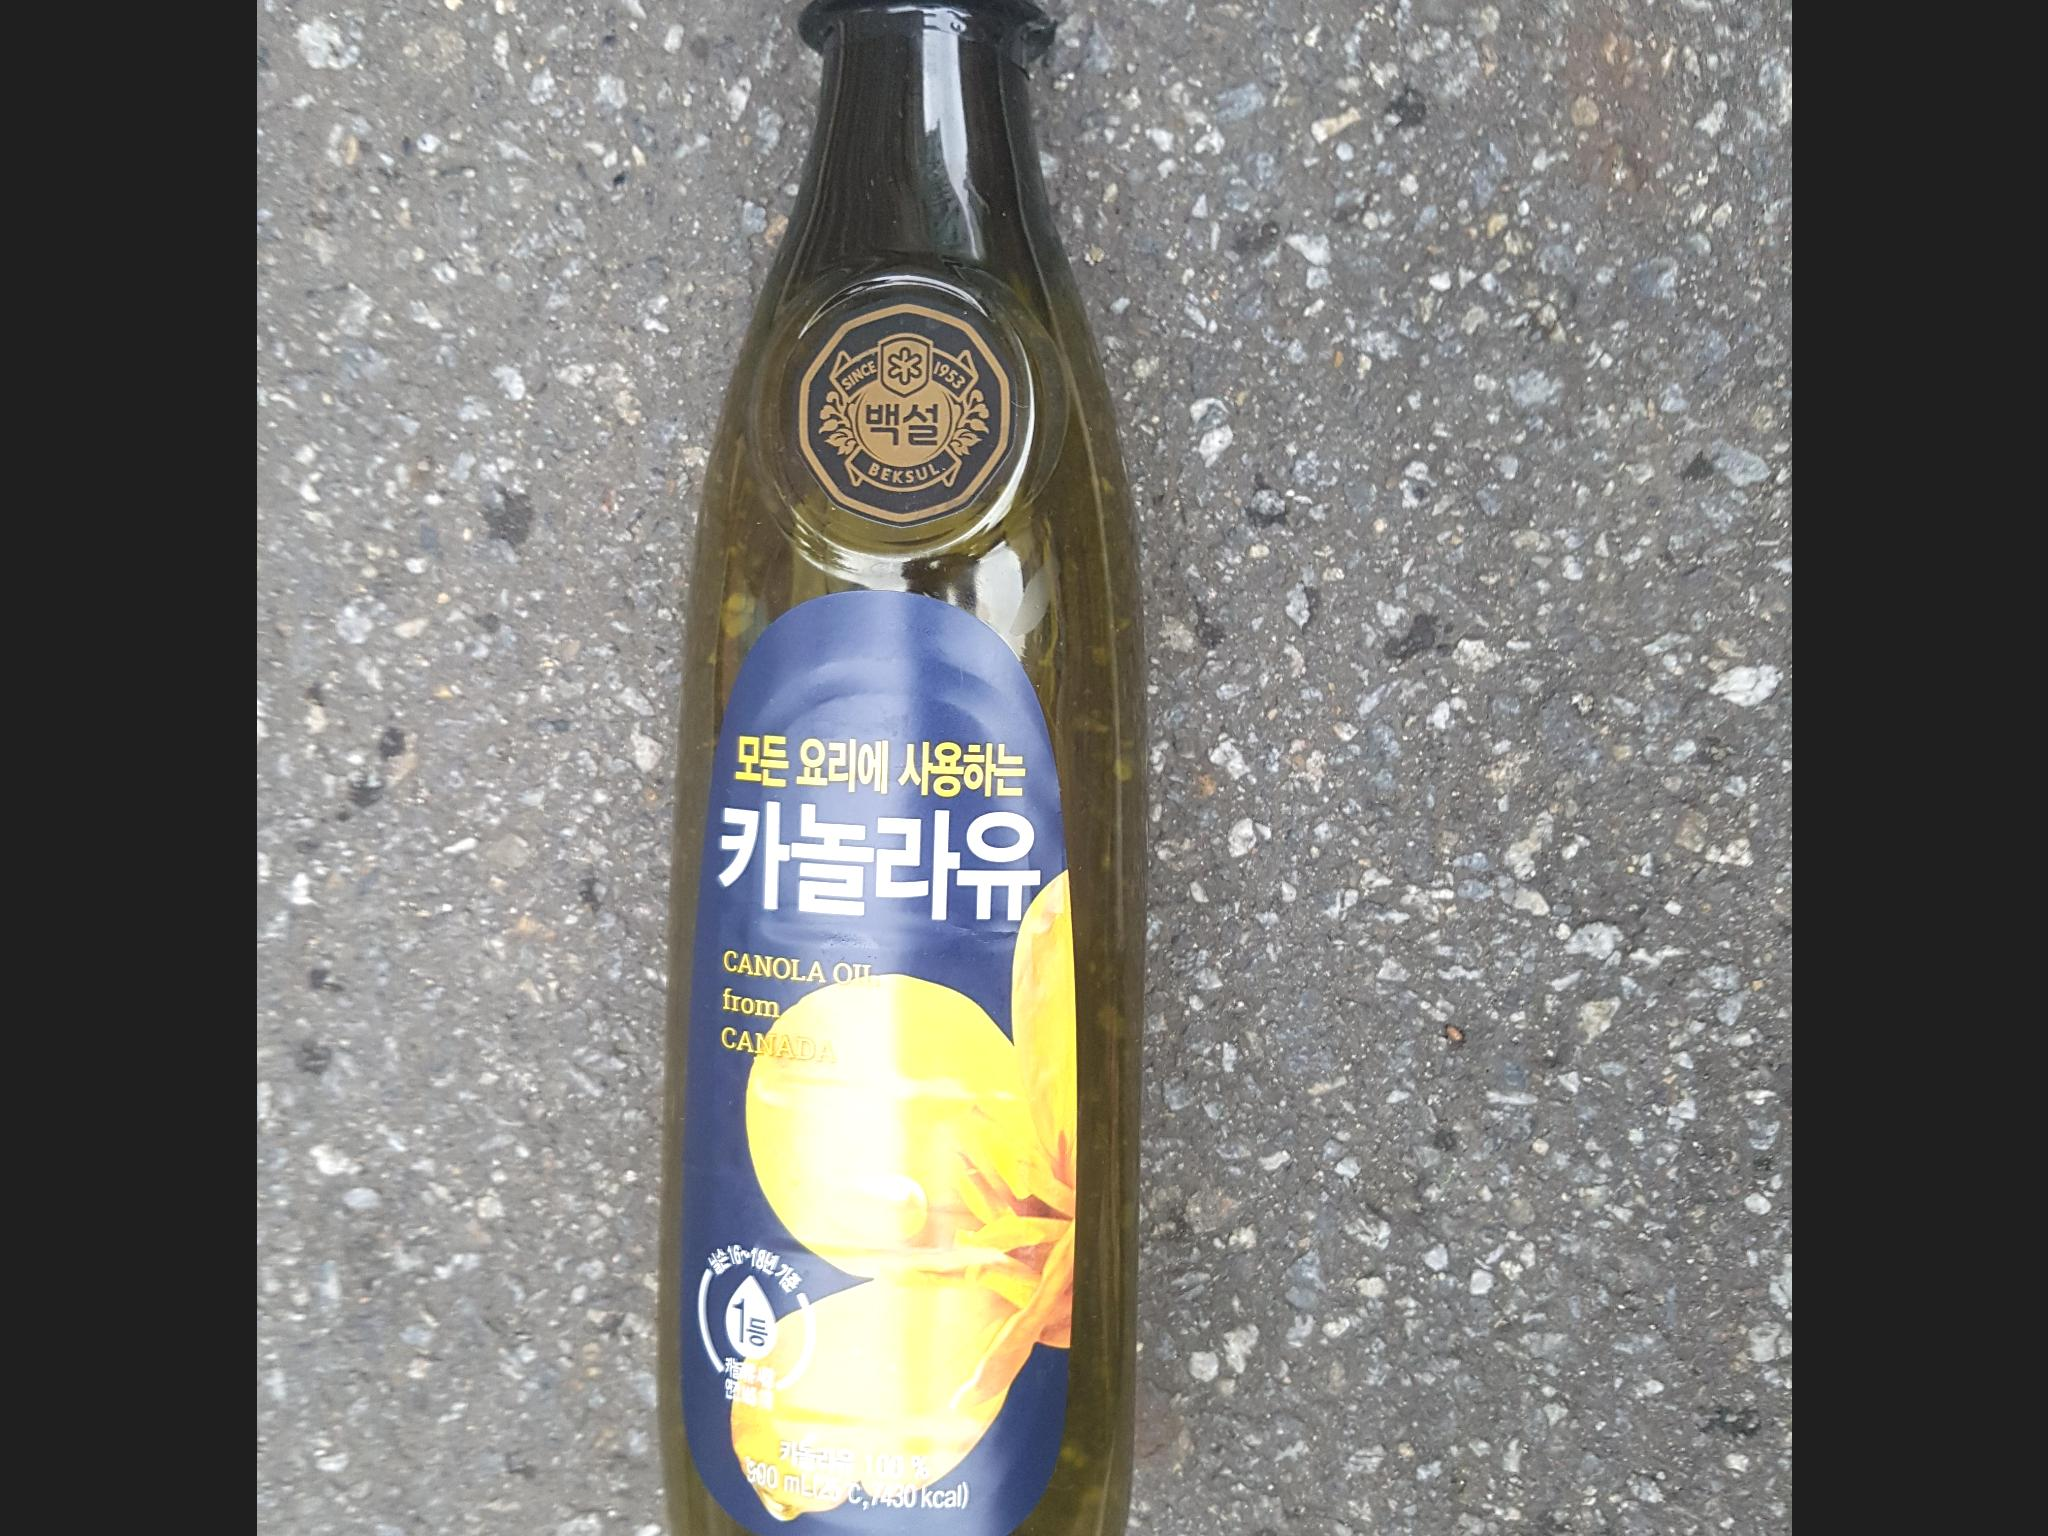bottle: (665, 0, 1176, 1536)
